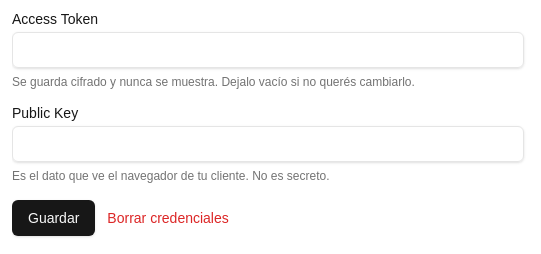
Test case: MercadoPagoCredentialsForm - submission in flight › should_disable_the_secondary_controls_too
Click the button "Guardar" at (54, 218), box [12,200,95,236]
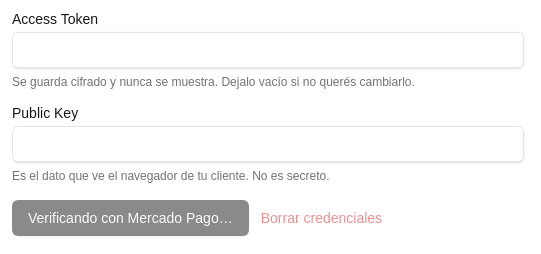
Expected: the button "Borrar credenciales" is disabled, [261,208,382,228]
